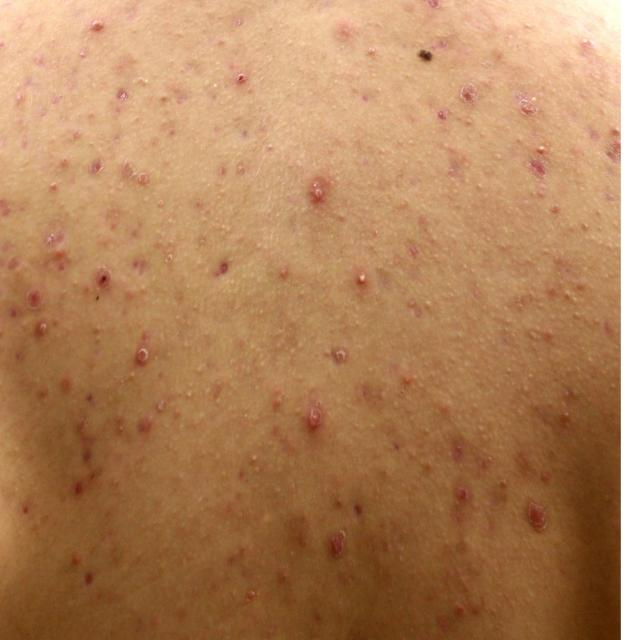Acne: (19, 17, 604, 627)
